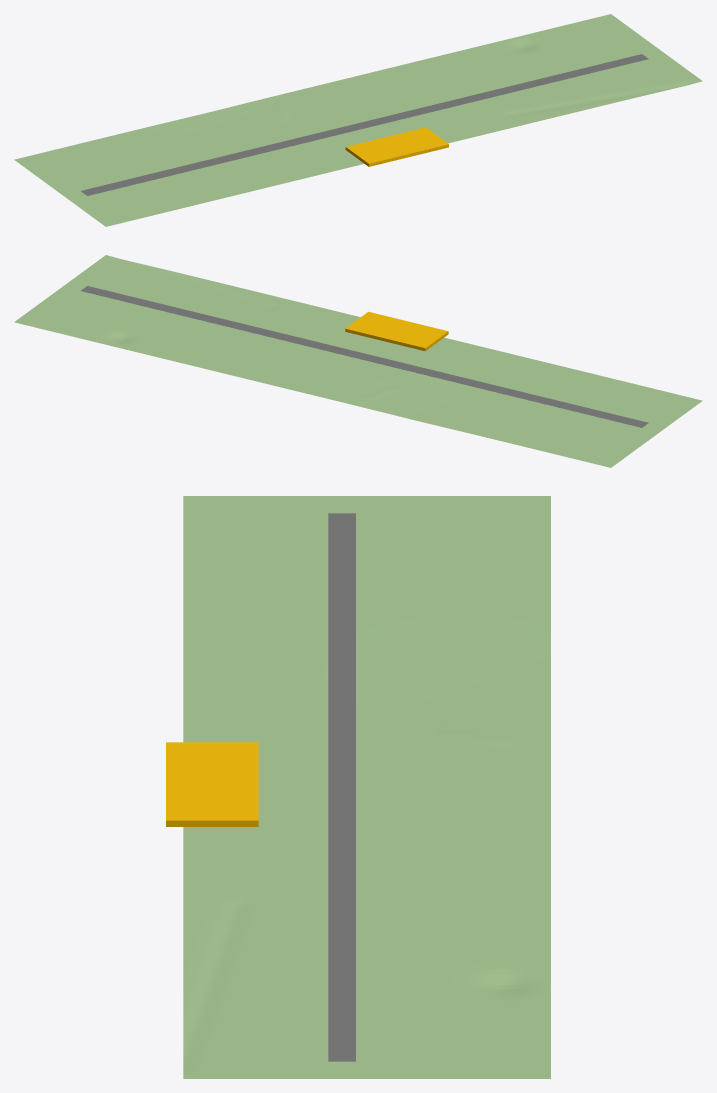
Rendered from final_airport_design.glb.
The picture shows the model from 3 angles, top to bottom: view 1: azimuth 30°, elevation 25°; view 2: azimuth 150°, elevation 25°; view 3: azimuth 270°, elevation 25°; orthographic projection. The views are drawn at different scales.
Parts seen in each view (by area): view 1: world; view 2: world; view 3: world.
Boxes of the visible parts, bbox=[...] form: world: bbox=[14, 14, 702, 226]; world: bbox=[14, 255, 702, 467]; world: bbox=[166, 496, 550, 1078].
Size of the model in its own units: 2977 by 20.79 by 831.
